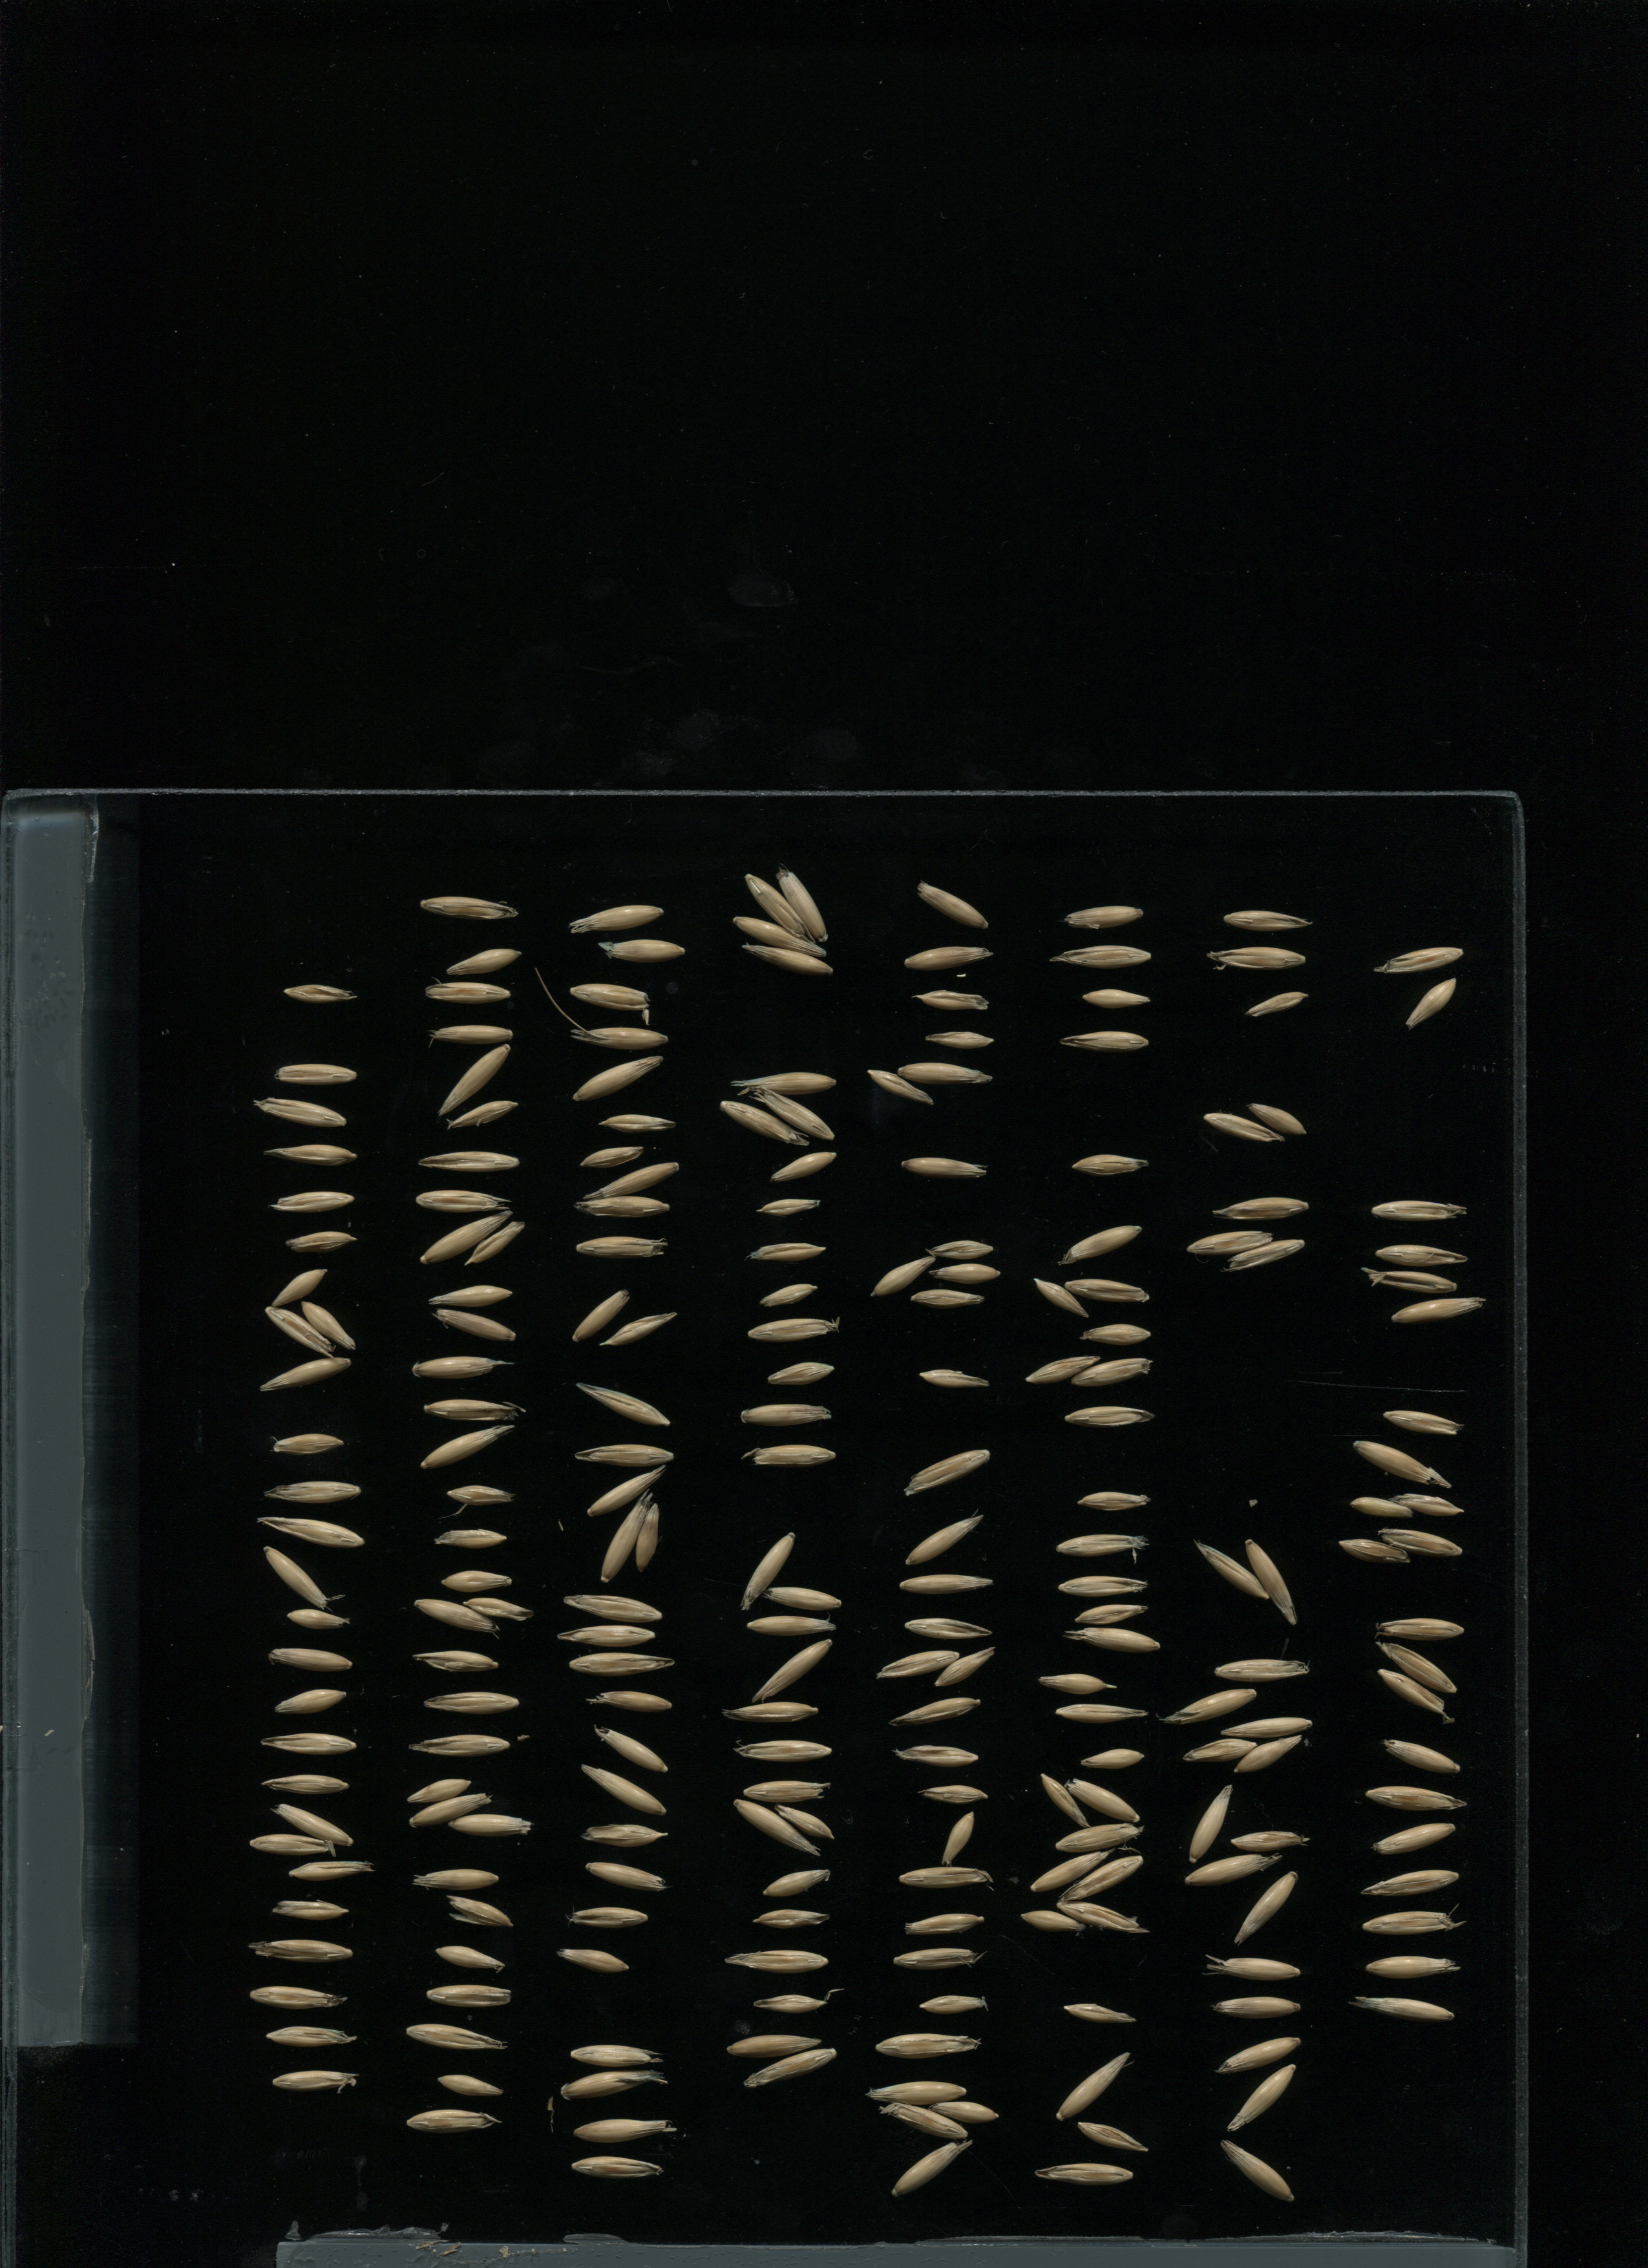WholeGrain: (437, 1041, 514, 1118), (1053, 2050, 1134, 2120), (416, 1206, 512, 1264), (1218, 2134, 1298, 2205), (752, 1636, 835, 1703), (1352, 1437, 1456, 1490), (1373, 1638, 1465, 1697), (574, 1761, 671, 1817), (1194, 1539, 1275, 1604), (887, 2138, 975, 2198), (1231, 1868, 1298, 1946), (752, 1085, 838, 1145), (732, 1798, 824, 1854), (574, 1379, 674, 1430), (1227, 2062, 1299, 2132), (1243, 1534, 1298, 1625), (741, 870, 812, 940), (1055, 1852, 1148, 1905), (569, 1055, 667, 1104), (717, 1099, 808, 1152), (773, 865, 831, 946), (901, 1446, 997, 1495), (600, 1491, 651, 1583), (578, 1159, 683, 1203), (901, 1513, 986, 1567), (417, 1423, 518, 1469), (739, 1528, 796, 1609), (727, 916, 833, 958), (261, 1544, 331, 1606), (743, 2046, 845, 2088), (586, 1463, 667, 1516), (269, 1800, 359, 1847), (1375, 1666, 1453, 1720), (1157, 1683, 1261, 1724), (590, 1722, 671, 1773), (873, 2025, 986, 2060), (1030, 1847, 1116, 1893), (875, 2099, 972, 2139), (401, 1789, 497, 1830), (912, 880, 990, 930), (261, 1307, 338, 1356), (1065, 1777, 1143, 1826), (570, 1285, 632, 1347), (1215, 2032, 1308, 2073), (412, 1595, 500, 1638), (1359, 1263, 1463, 1298), (255, 1514, 364, 1548), (403, 2020, 512, 2053), (1363, 1782, 1472, 1815), (1199, 1109, 1289, 1150), (857, 1065, 938, 1109), (562, 1592, 667, 1625), (1368, 1819, 1463, 1856), (298, 1298, 359, 1354), (1352, 1992, 1461, 2023), (1190, 1780, 1232, 1861), (736, 944, 838, 977), (1359, 1904, 1467, 1935), (262, 1354, 354, 1391), (245, 1935, 357, 1965), (1039, 1770, 1093, 1831), (254, 1095, 354, 1129), (1032, 2155, 1137, 2187), (431, 1303, 518, 1342), (1377, 1523, 1467, 1560), (898, 1055, 997, 1088), (1203, 1951, 1306, 1983), (1361, 1867, 1465, 1898), (597, 1308, 678, 1349), (1231, 1733, 1308, 1775), (1379, 1733, 1463, 1771), (1181, 1852, 1278, 1886), (870, 1252, 940, 1298), (1056, 1900, 1148, 1935), (558, 2069, 666, 2099), (570, 2113, 678, 2143), (1060, 1222, 1143, 1261), (1220, 1238, 1310, 1273), (1065, 1354, 1155, 1389), (930, 1643, 998, 1689), (1373, 944, 1467, 977), (729, 1067, 838, 1095), (465, 1217, 525, 1268), (894, 1567, 997, 1597), (248, 1983, 350, 2013), (889, 1694, 984, 1726), (873, 1648, 963, 1682), (403, 1733, 516, 1759), (572, 903, 666, 935), (1379, 1407, 1467, 1440), (416, 895, 519, 923), (567, 2152, 671, 2180), (864, 2078, 968, 2106), (1213, 1653, 1310, 1683), (567, 983, 653, 1016), (1065, 1627, 1167, 1655), (567, 2041, 669, 2069), (1361, 1953, 1463, 1981), (771, 1801, 842, 1842), (1220, 905, 1315, 935), (901, 942, 997, 972), (408, 1646, 504, 1676), (1375, 1613, 1470, 1643), (1204, 946, 1312, 972), (1046, 944, 1153, 970), (421, 1395, 528, 1421), (578, 1821, 678, 1849), (722, 1948, 836, 1972), (1185, 1227, 1278, 1257), (567, 1023, 673, 1049), (257, 1731, 363, 1757), (581, 1859, 669, 1891), (1058, 1402, 1157, 1430), (886, 1944, 984, 1972), (1051, 1823, 1143, 1852), (408, 1354, 519, 1379), (1078, 2118, 1151, 2155), (1407, 976, 1458, 1028), (893, 1865, 995, 1891), (901, 1615, 997, 1643), (269, 1893, 354, 1925), (264, 2021, 359, 2050), (572, 1234, 673, 1261), (431, 1940, 511, 1974), (1389, 1294, 1490, 1321), (731, 1738, 838, 1763), (1030, 1277, 1090, 1321), (1062, 1277, 1155, 1305), (266, 1646, 359, 1675), (768, 1148, 838, 1185), (445, 1810, 532, 1840), (268, 1266, 331, 1307), (1023, 1354, 1104, 1386), (1056, 1030, 1153, 1057), (445, 1895, 518, 1930), (567, 1652, 678, 1675), (269, 1687, 354, 1717), (893, 1742, 982, 1770), (268, 2069, 363, 2095), (555, 1942, 634, 1974), (1215, 1992, 1303, 2020), (444, 946, 526, 976), (1245, 1101, 1312, 1138), (898, 1155, 991, 1182), (245, 1831, 338, 1858), (417, 1152, 525, 1175), (574, 1196, 681, 1219), (262, 1479, 370, 1502), (1060, 1997, 1137, 2029), (743, 1317, 842, 1342), (1053, 1532, 1151, 1557), (410, 1867, 509, 1891), (901, 1911, 988, 1939), (423, 979, 514, 1005), (444, 1099, 519, 1130), (1336, 1535, 1412, 1567), (403, 2108, 500, 2132), (1208, 1197, 1312, 1220), (574, 1444, 678, 1467), (421, 1690, 525, 1713), (766, 1583, 845, 1613), (1181, 1734, 1261, 1764), (739, 1778, 835, 1803), (736, 1403, 838, 1426), (632, 1500, 662, 1578), (757, 1867, 835, 1896), (597, 939, 690, 963), (424, 1284, 518, 1308), (283, 1858, 377, 1882), (556, 1624, 657, 1646), (1051, 1699, 1151, 1722), (262, 1143, 361, 1166), (1217, 1715, 1315, 1738), (921, 1234, 1000, 1263), (718, 2034, 824, 2055), (1373, 1243, 1470, 1266), (424, 1983, 514, 2007), (595, 1109, 678, 1136), (743, 1615, 838, 1638), (414, 1190, 516, 1211), (722, 1701, 824, 1722), (1056, 1572, 1150, 1595), (1393, 1490, 1468, 1518), (940, 1807, 975, 1867), (273, 1062, 364, 1085), (586, 1690, 678, 1713), (280, 979, 359, 1005), (435, 2071, 509, 2099), (268, 1190, 357, 1213), (921, 1027, 998, 1053), (1368, 1199, 1465, 1220), (741, 1444, 838, 1465), (1069, 1152, 1151, 1176), (261, 1773, 356, 1794), (1076, 1488, 1151, 1514), (916, 1780, 991, 1807), (910, 988, 991, 1013), (750, 1240, 831, 1264), (438, 1567, 519, 1592), (1037, 1671, 1118, 1696), (1229, 1828, 1310, 1852), (1019, 1909, 1090, 1937), (282, 1227, 361, 1252), (1243, 990, 1308, 1020), (1062, 905, 1146, 928), (909, 1285, 986, 1310), (576, 1143, 648, 1169), (461, 1597, 533, 1624), (1347, 1495, 1419, 1521), (754, 1992, 836, 2014), (1079, 986, 1155, 1011), (930, 2099, 1005, 2124), (563, 1907, 651, 1928), (269, 1432, 350, 1454), (1076, 1322, 1155, 1345), (405, 1777, 474, 1803), (764, 1361, 836, 1386), (919, 1990, 991, 2014), (757, 1282, 819, 1310), (1070, 1602, 1151, 1624), (754, 1194, 822, 1219), (919, 1368, 993, 1391), (748, 1909, 835, 1928), (430, 1025, 514, 1044), (431, 1528, 514, 1548), (444, 1484, 518, 1506), (285, 1609, 354, 1631), (1078, 1749, 1146, 1770), (931, 1264, 1002, 1284)
